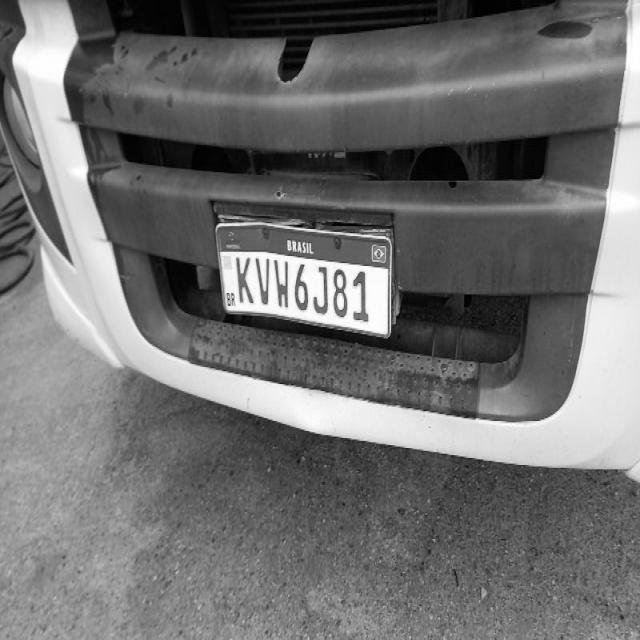placa_mercosul: (219, 223, 392, 337)
